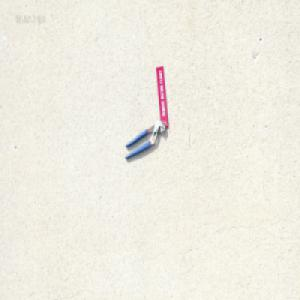Label: (155, 65, 169, 127)
Pliers: (124, 118, 166, 160)
